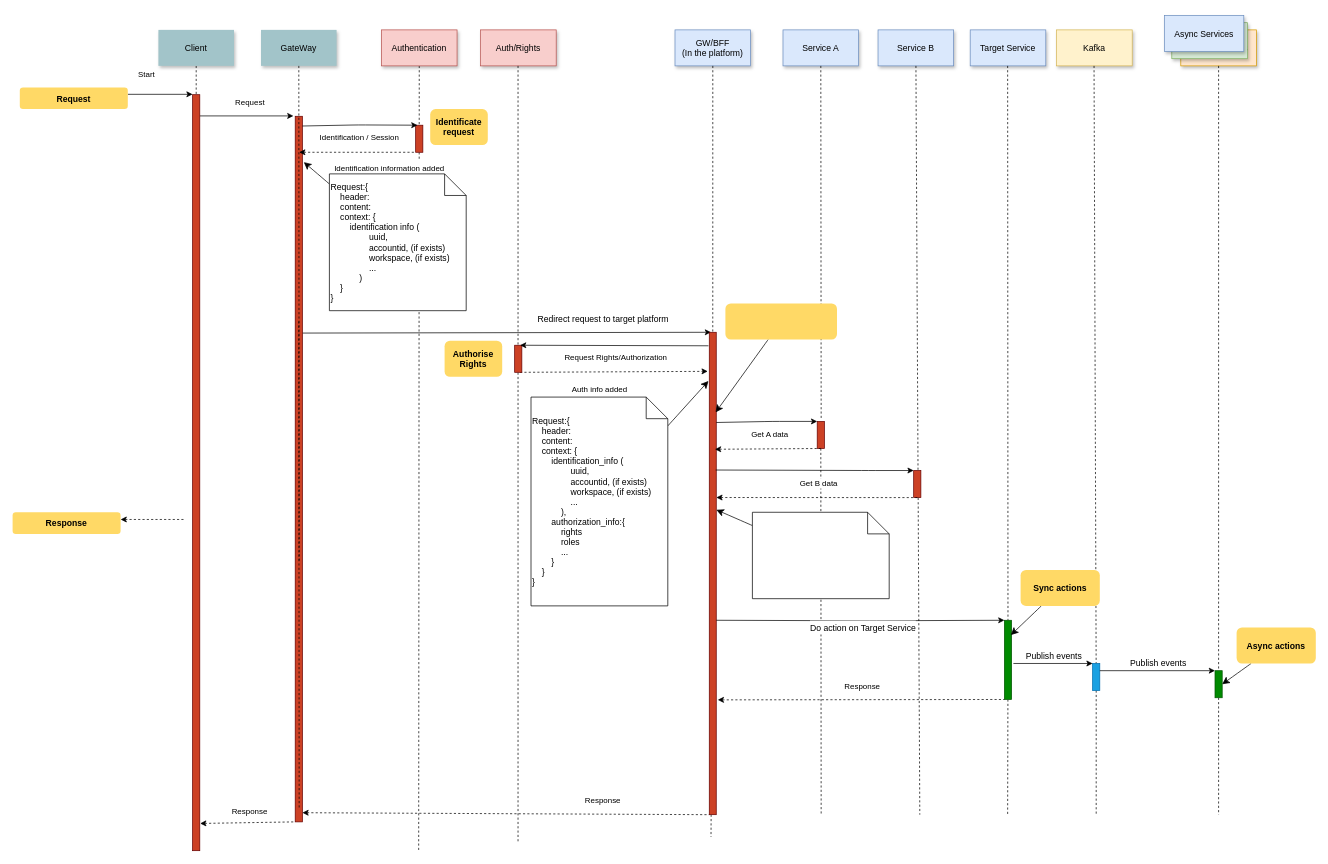
This 1328x864 diagram has some shape labels left out. Here are the shapes that lost their labels. From the top down, the centre of each, then its label:
At point 781,321: "Check rights before reach services".
At point 820,555: "Request:{ header: content: context: { ..., data_service_A, data_service_B }".
